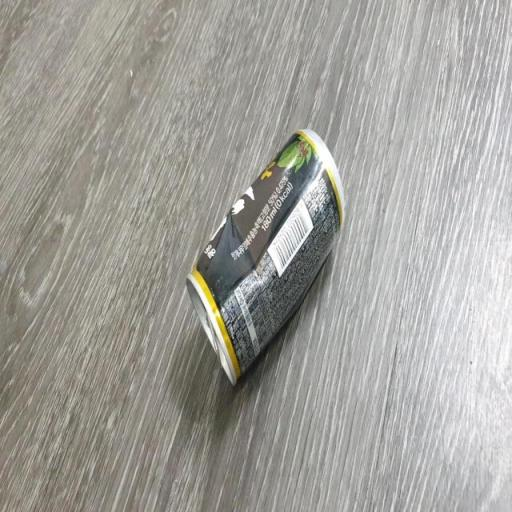metal: (172, 114, 348, 404)
